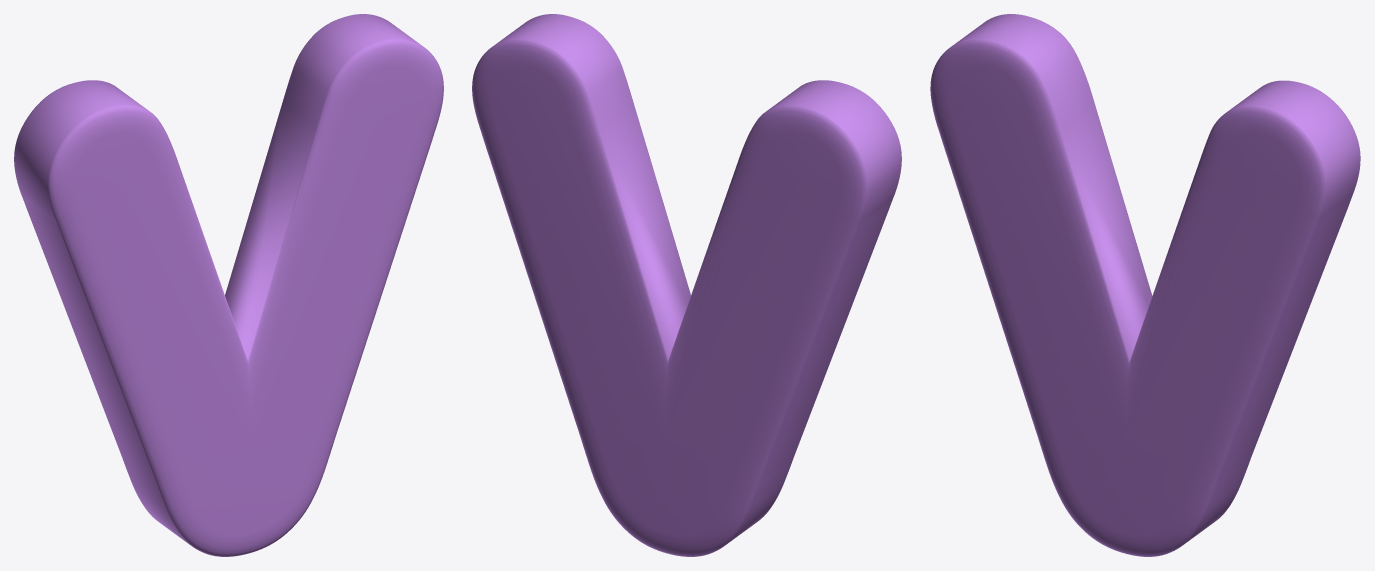
The model's file is RA_Letter_V.fbx.
The picture shows the model from 3 angles, left to right: view 1: azimuth 30°, elevation 25°; view 2: azimuth 150°, elevation 25°; view 3: azimuth 330°, elevation 25°; orthographic projection.
Visible parts, largest first — view 1: RA_Letter_V; view 2: RA_Letter_V; view 3: RA_Letter_V.
Boxes of the visible parts, box(x1,y1,x2,y2) form: RA_Letter_V: box(14, 14, 443, 556); RA_Letter_V: box(472, 14, 901, 556); RA_Letter_V: box(930, 14, 1360, 556).
Bounding box in the file's own units: 155 × 180 × 28.
